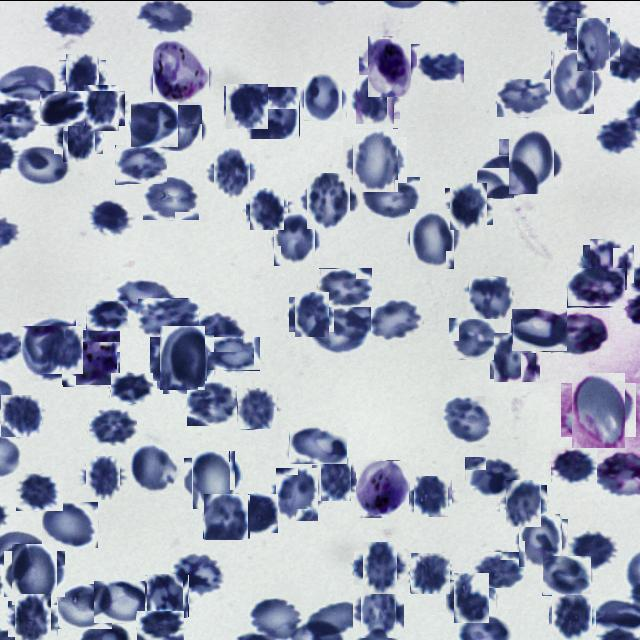red blood cell: (566, 377, 630, 441), (24, 321, 80, 376), (348, 132, 403, 186), (504, 133, 558, 188), (155, 330, 210, 384), (545, 54, 599, 108), (8, 546, 62, 600), (312, 306, 371, 355), (406, 212, 458, 264), (248, 86, 300, 138), (54, 583, 112, 628), (188, 453, 239, 504), (551, 310, 610, 354), (42, 501, 98, 547), (477, 154, 535, 198), (130, 442, 180, 493), (369, 296, 424, 342), (142, 176, 199, 220), (160, 341, 210, 391), (303, 175, 353, 225), (138, 296, 200, 336), (362, 176, 420, 218), (512, 308, 568, 351), (516, 516, 566, 564), (174, 550, 225, 597), (15, 142, 72, 184), (94, 580, 151, 622), (443, 395, 491, 444), (115, 278, 173, 318), (567, 266, 625, 306), (317, 266, 372, 308), (465, 456, 520, 498), (273, 470, 321, 518), (270, 215, 318, 262), (156, 102, 204, 149), (187, 380, 237, 425), (448, 317, 500, 360), (130, 101, 178, 147), (289, 426, 347, 464), (203, 493, 250, 539), (492, 334, 538, 380), (496, 78, 550, 117), (115, 144, 167, 184), (249, 597, 301, 637), (568, 530, 618, 571), (40, 2, 95, 38), (572, 21, 616, 66), (471, 551, 524, 588), (542, 555, 591, 595), (353, 77, 397, 121), (358, 545, 402, 589), (550, 594, 594, 638), (586, 241, 630, 285), (226, 84, 270, 128), (195, 310, 242, 351), (88, 408, 138, 446), (305, 602, 360, 636), (210, 150, 253, 193), (357, 591, 400, 634), (468, 276, 512, 318), (12, 596, 54, 640), (231, 493, 278, 532), (16, 471, 63, 510), (302, 75, 344, 118), (448, 184, 490, 227), (450, 576, 493, 618), (207, 336, 260, 370), (550, 446, 597, 484), (236, 387, 278, 429), (146, 574, 188, 616), (0, 394, 42, 436), (58, 116, 99, 157), (411, 552, 452, 593), (81, 87, 122, 128), (62, 56, 103, 96), (503, 482, 544, 522), (314, 458, 354, 498), (292, 294, 332, 334), (40, 90, 85, 125), (84, 458, 124, 497), (90, 198, 132, 235), (598, 117, 640, 153), (417, 51, 464, 82), (412, 477, 450, 515), (248, 188, 286, 226), (136, 610, 184, 640), (110, 372, 153, 403), (86, 300, 128, 331)
schizont: (364, 39, 416, 91)
trophozoite: (151, 42, 212, 102), (62, 328, 120, 386), (356, 460, 412, 516)
